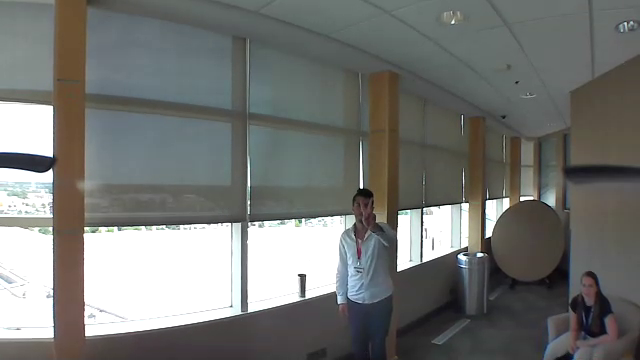peace: (352, 191, 386, 236)
